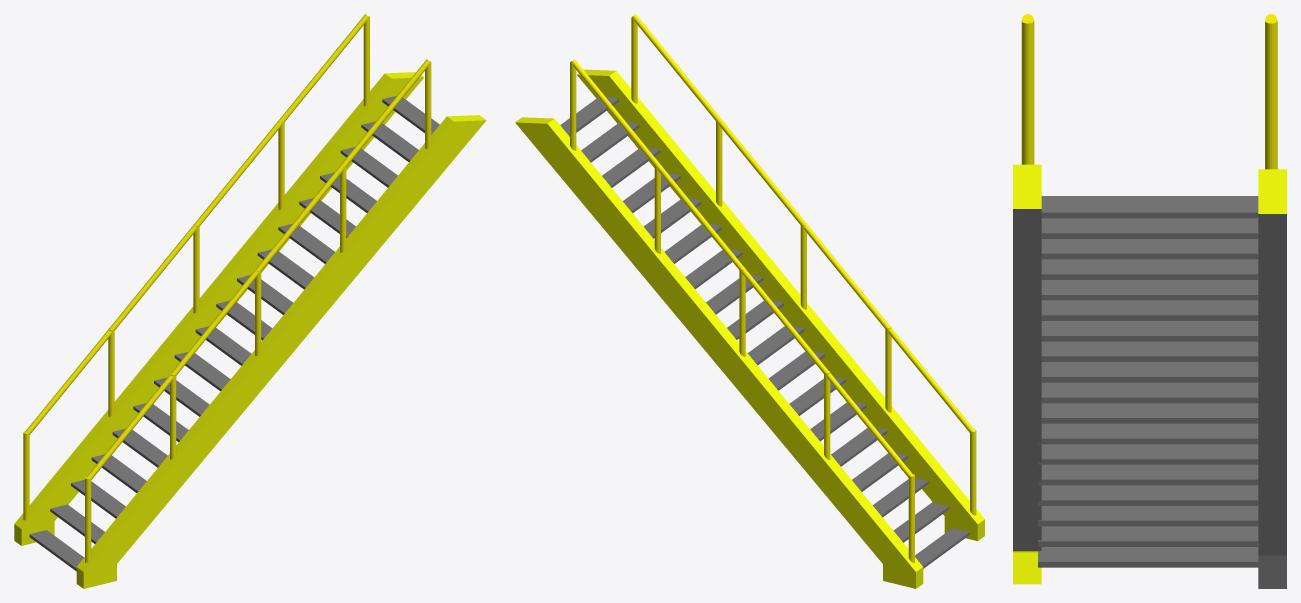
The model's file is Saircase_01.fbx.
3 renders of one model, left to right at view 1: azimuth 30°, elevation 25°; view 2: azimuth 150°, elevation 25°; view 3: azimuth 270°, elevation 25°, orthographic. The views are drawn at different scales.
Visible parts, largest first — view 1: Staircase_01; view 2: Staircase_01; view 3: Staircase_01.
Boxes of the visible parts, x1,y1,x2,y2 form: Staircase_01: [14, 14, 486, 588]; Staircase_01: [515, 14, 984, 588]; Staircase_01: [1013, 14, 1286, 588].
Size of the model in its own units: 1014 by 1069 by 302.
